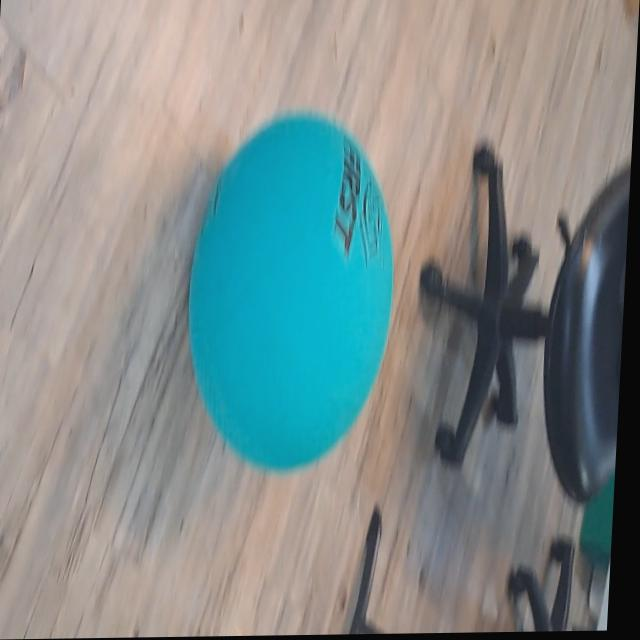ALGAE: (177, 108, 404, 476)
